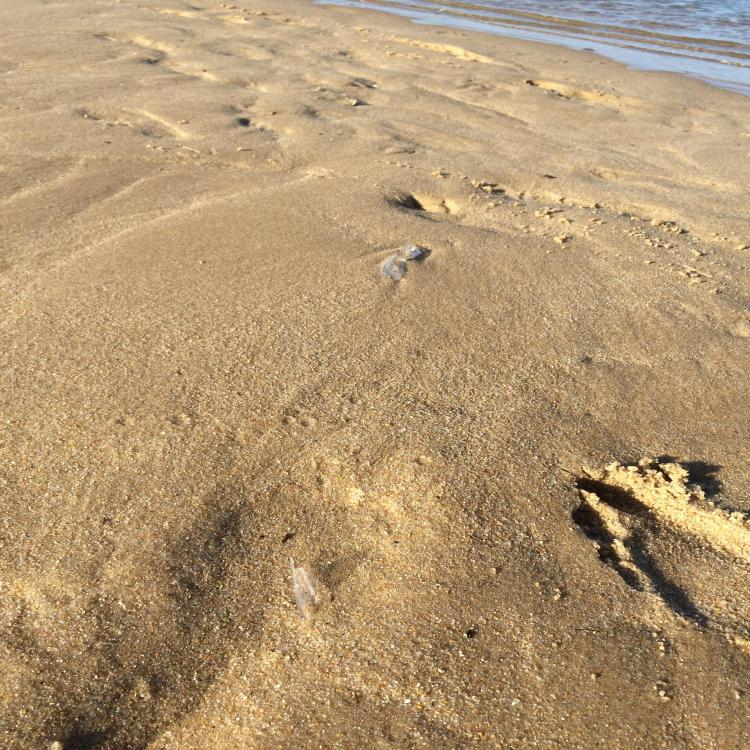Plastic film: (290, 556, 315, 620), (380, 243, 421, 278)
